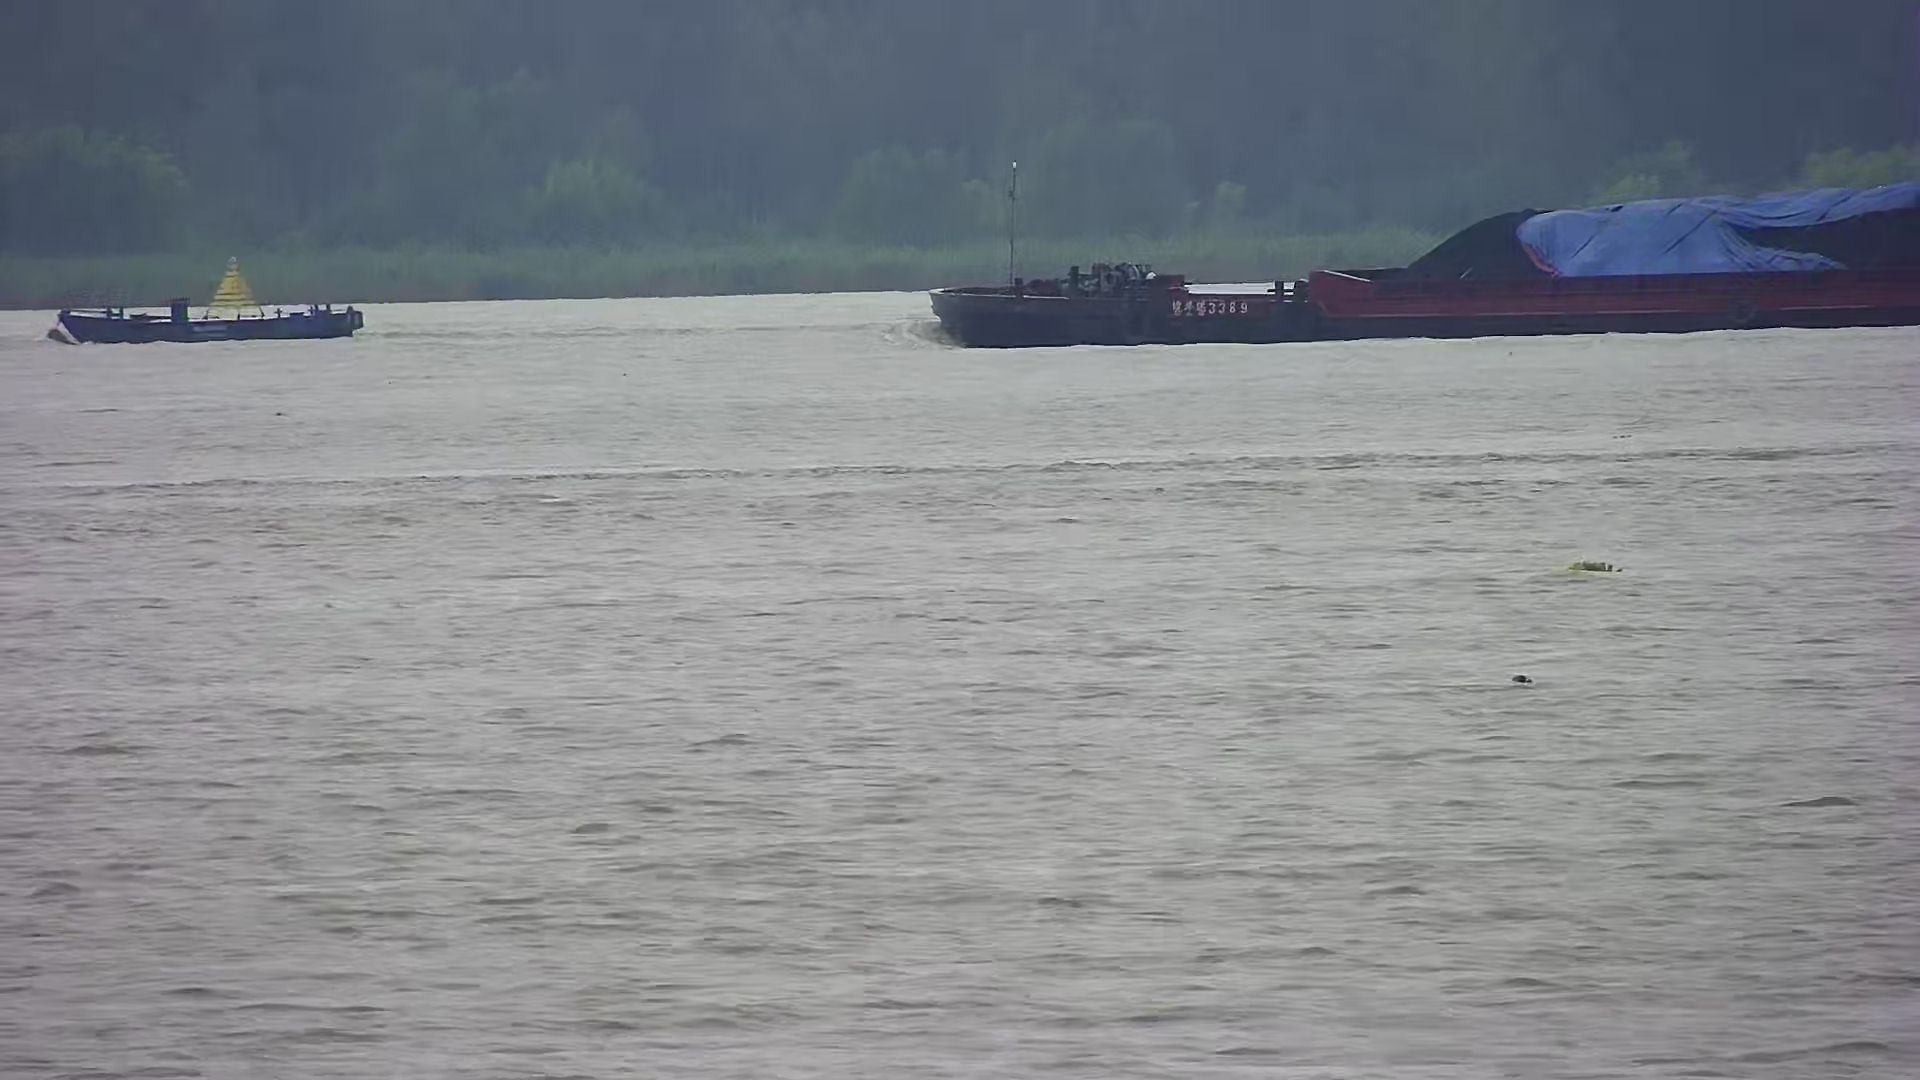boat: (62, 258, 365, 342)
ship: (924, 173, 1920, 348)
